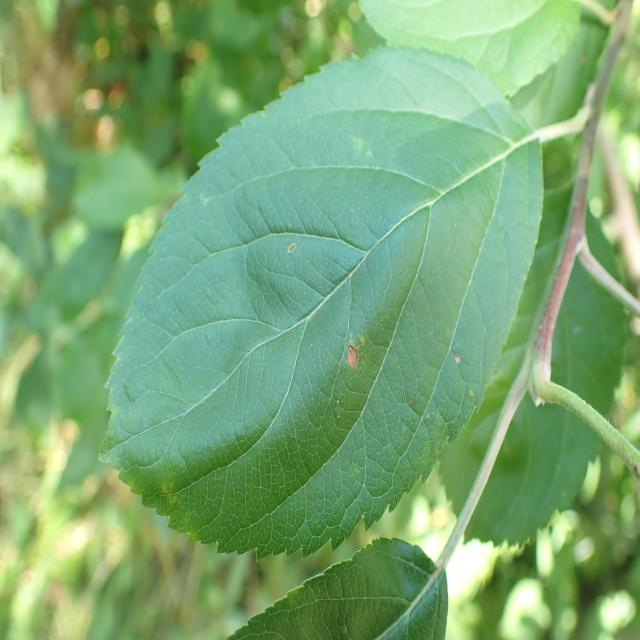Black Rot: (332, 308, 366, 396)
